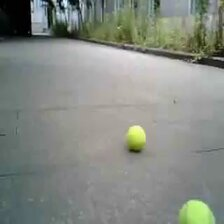tennis: (177, 198, 215, 224), (127, 125, 145, 151)
